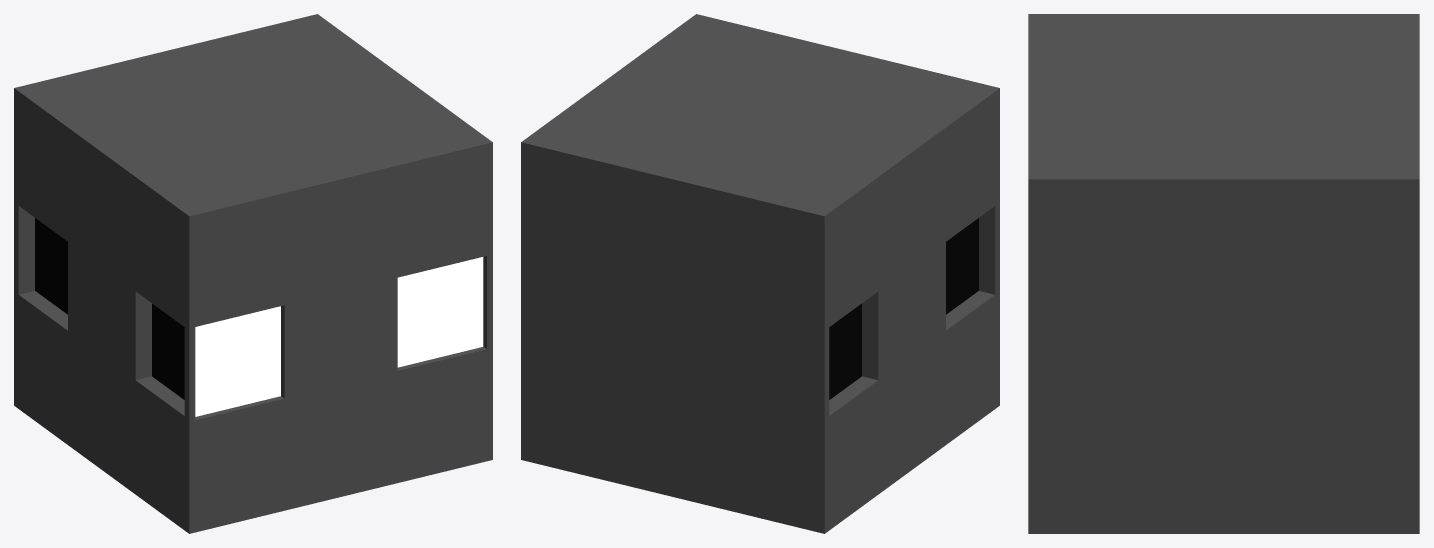
Rendered from petitMilieuCote.fbx.
The picture shows the model from 3 angles, left to right: view 1: azimuth 30°, elevation 25°; view 2: azimuth 150°, elevation 25°; view 3: azimuth 270°, elevation 25°; orthographic projection. The views are drawn at different scales.
Parts seen in each view (by area): view 1: Cube.132; view 2: Cube.132; view 3: Cube.132.
Part boxes in pixels (x1,y1,x2,y2): Cube.132: [14, 14, 492, 533]; Cube.132: [521, 14, 999, 533]; Cube.132: [1028, 14, 1419, 533].
Bounding box in the file's own units: 2000 × 2000 × 2000.
